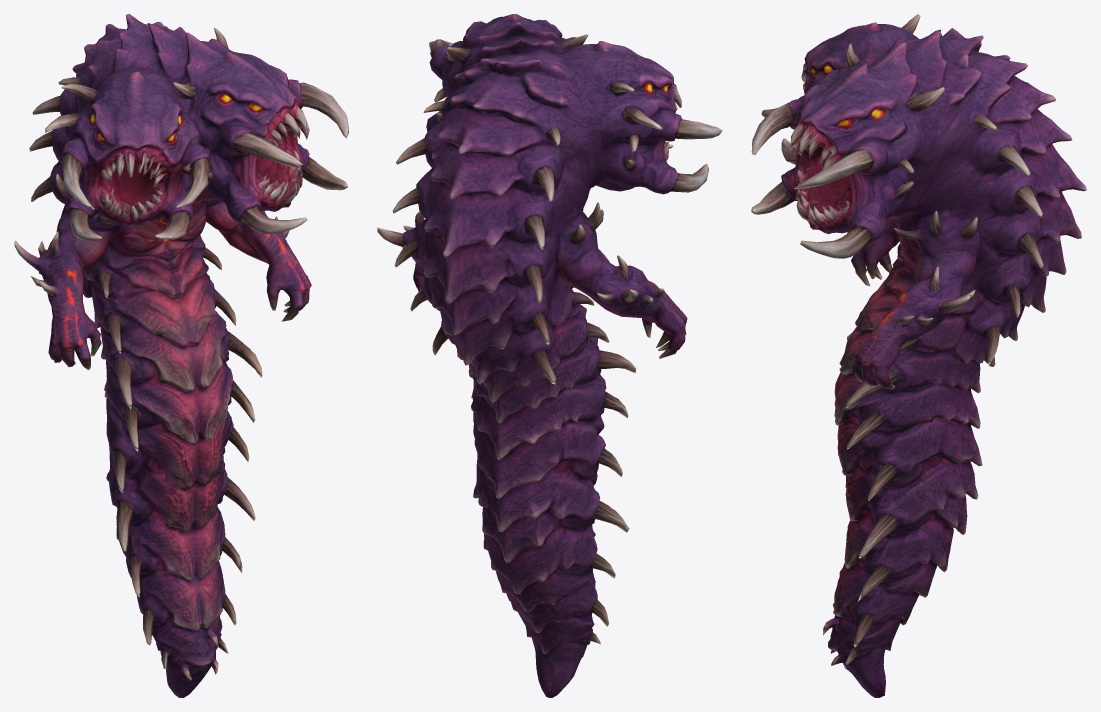
File: Gusano+Interdimensional.glb
3 renders of one model, left to right at view 1: azimuth 30°, elevation 25°; view 2: azimuth 150°, elevation 25°; view 3: azimuth 270°, elevation 25°, orthographic. The views are drawn at different scales.
Visible parts, largest first — view 1: tripo_node_f75636fc-bbed-494b-a0c4-66c1c456893c; view 2: tripo_node_f75636fc-bbed-494b-a0c4-66c1c456893c; view 3: tripo_node_f75636fc-bbed-494b-a0c4-66c1c456893c.
Boxes of the visible parts, x1,y1,x2,y2 form: tripo_node_f75636fc-bbed-494b-a0c4-66c1c456893c: (14, 14, 348, 697); tripo_node_f75636fc-bbed-494b-a0c4-66c1c456893c: (377, 14, 722, 697); tripo_node_f75636fc-bbed-494b-a0c4-66c1c456893c: (751, 14, 1086, 697).
Size of the model in its own units: 0.424 by 0.9805 by 0.4475.
1 material, 1 textured.
